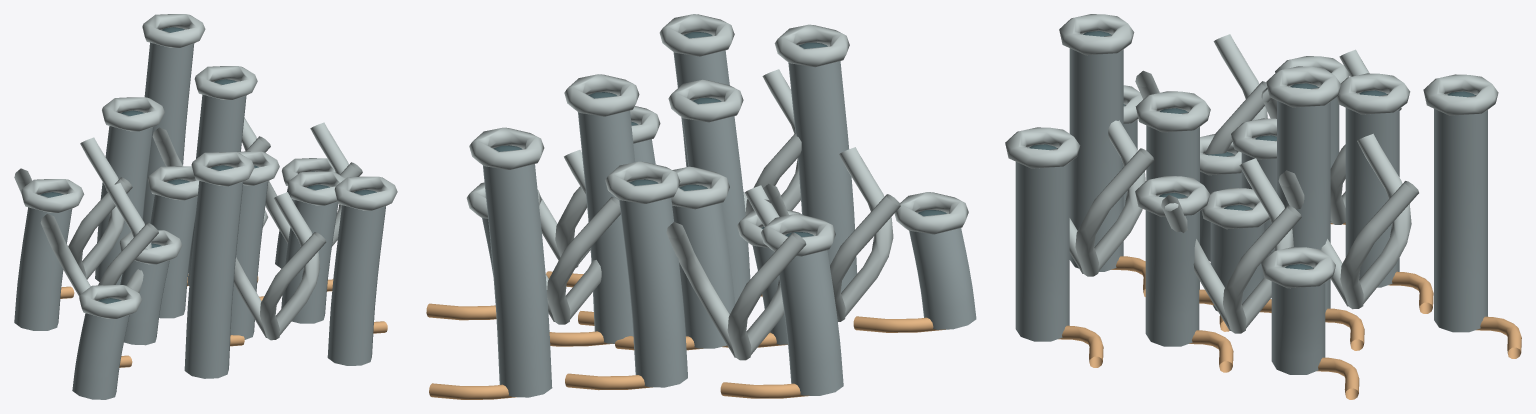
File: bio_thermal_colony_19_far.glb
The picture shows the model from 3 angles, left to right: view 1: azimuth 30°, elevation 25°; view 2: azimuth 150°, elevation 25°; view 3: azimuth 270°, elevation 25°; orthographic projection. The views are drawn at different scales.
Visible parts, largest first — view 1: Chimney biofilm.007, Chimney biofilm.010, Spiral filament.006, Chimney biofilm.009, Chimney biofilm.011, Spiral filament.012, Chimney biofilm.012, Spiral filament.003, Chimney biofilm.006, Chimney biofilm.001, Chimney biofilm.002, Chimney biofilm.005 (+17 smaller); view 2: Chimney biofilm.011, Chimney biofilm.006, Chimney biofilm.007, Chimney biofilm.003, Chimney biofilm.009, Spiral filament.003, Spiral filament.012, Chimney biofilm.001, Chimney biofilm.012, Chimney biofilm.002, Spiral filament.009, Spiral filament.006 (+21 smaller); view 3: Chimney biofilm.011, Chimney biofilm.010, Chimney biofilm.007, Spiral filament.009, Chimney biofilm.005, Spiral filament, Chimney biofilm.003, Chimney biofilm.006, Spiral filament.006, Chimney biofilm.008, Spiral filament.012, Chimney biofilm.002 (+25 smaller).
Part boxes in pixels (box(x1,y1,x2,y2)): Chimney biofilm.007: box(184, 181, 243, 378); Chimney biofilm.010: box(327, 205, 385, 365); Spiral filament.006: box(233, 192, 326, 340); Chimney biofilm.009: box(14, 207, 72, 330); Chimney biofilm.011: box(143, 42, 194, 224); Spiral filament.012: box(40, 183, 158, 296); Chimney biofilm.012: box(72, 313, 129, 399); Spiral filament.003: box(14, 137, 132, 279); Chimney biofilm.006: box(95, 126, 153, 284); Chimney biofilm.001: box(150, 194, 197, 318); Chimney biofilm.002: box(230, 181, 268, 339); Chimney biofilm.005: box(281, 200, 338, 323); Chimney biofilm.011: box(483, 164, 552, 397); Chimney biofilm.006: box(619, 198, 687, 387); Chimney biofilm.007: box(788, 45, 857, 292); Chimney biofilm.003: box(578, 110, 635, 343); Chimney biofilm.009: box(779, 234, 843, 395); Spiral filament.003: box(666, 185, 806, 360); Spiral filament.012: box(763, 147, 900, 321); Chimney biofilm.001: box(672, 187, 734, 348); Chimney biofilm.012: box(909, 212, 976, 329); Chimney biofilm.002: box(682, 116, 750, 303); Spiral filament.009: box(485, 150, 620, 324); Spiral filament.006: box(743, 69, 801, 215); Chimney biofilm.011: box(1434, 95, 1487, 332); Chimney biofilm.010: box(1015, 148, 1069, 341); Chimney biofilm.007: box(1069, 34, 1123, 271); Spiral filament.009: box(1278, 133, 1418, 309); Chimney biofilm.005: box(1145, 196, 1199, 346); Spiral filament: box(1161, 158, 1301, 333); Chimney biofilm.003: box(1277, 87, 1330, 312); Chimney biofilm.006: box(1345, 94, 1399, 287); Spiral filament.006: box(1069, 120, 1154, 276); Chimney biofilm.008: box(1271, 267, 1325, 374); Spiral filament.012: box(1135, 34, 1271, 154); Chimney biofilm.002: box(1146, 111, 1199, 289).
Size of the model in its own units: 1.82 by 1.03 by 1.92.
